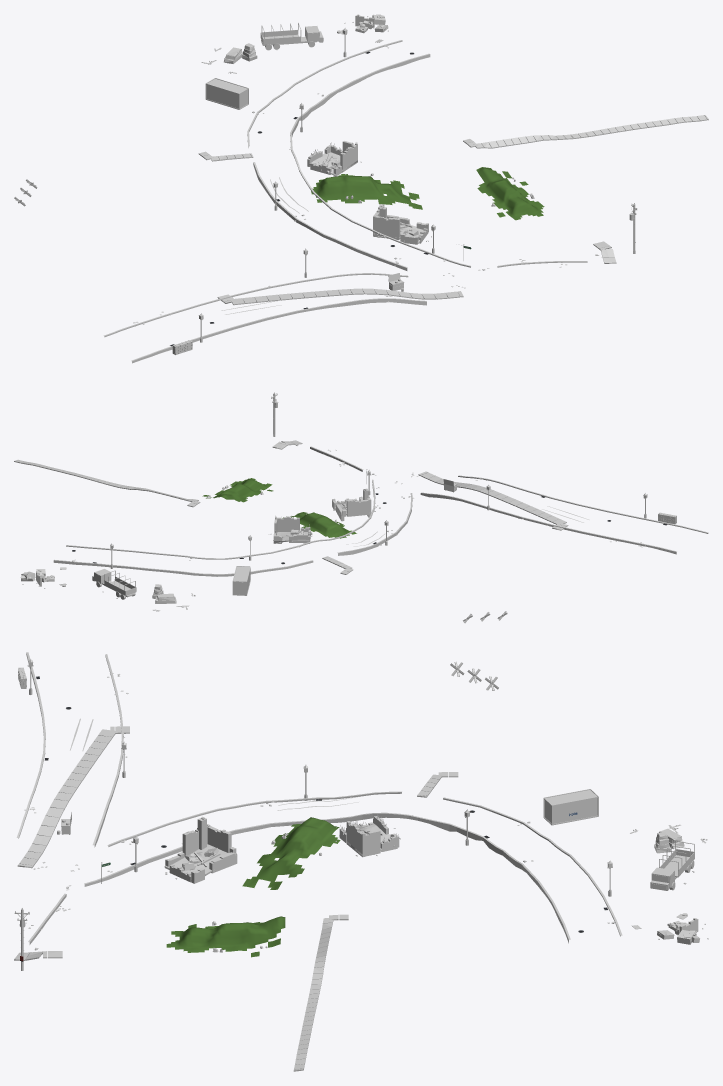
File: outdoor_00.glb
3 renders of one model, top to bottom at view 1: azimuth 30°, elevation 25°; view 2: azimuth 150°, elevation 25°; view 3: azimuth 270°, elevation 25°, orthographic. The views are drawn at different scales.
Visible parts, largest first — view 1: gas_station_town; view 2: gas_station_town; view 3: gas_station_town.
Part boxes in pixels (left/top/right/bottom): gas_station_town: left=14, top=14, right=708, bottom=363; gas_station_town: left=14, top=392, right=708, bottom=623; gas_station_town: left=14, top=652, right=708, bottom=1071.
Size of the model in its own units: 116 by 10.76 by 82.57.
4 materials, 3 textured.
